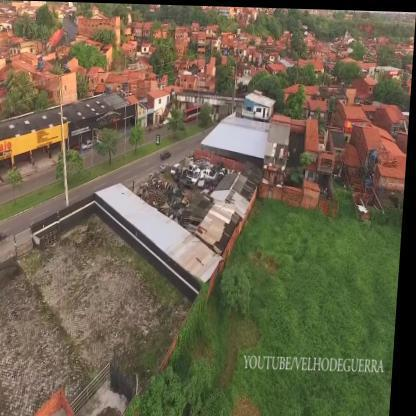lixo: (151, 178, 195, 214), (179, 157, 223, 183)
